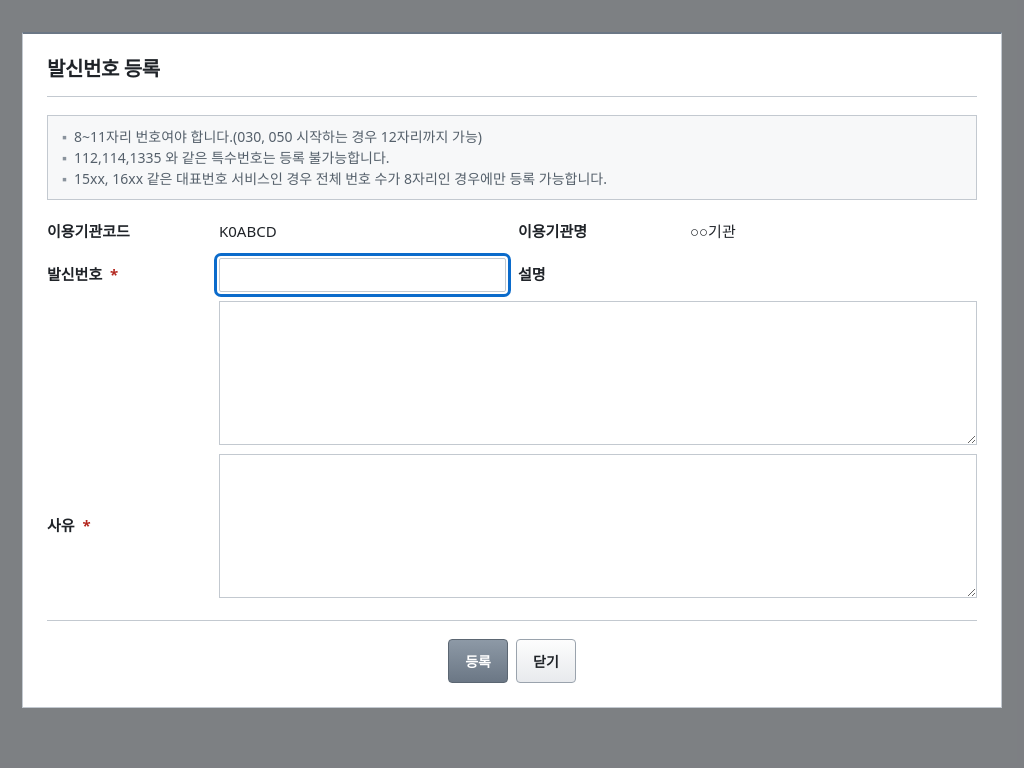
Scenario: SenderNumberRegisterDialog › FR-SNDC-004 — 중복(409)도 같은 방식으로 표시된다
This screenshot has width=1024, height=768.
expect the text "○○기관" is shown: met, box [690, 221, 736, 241]
In the field labelled "발신번호 *": [362, 274] box [219, 258, 506, 292], type "0212345678"
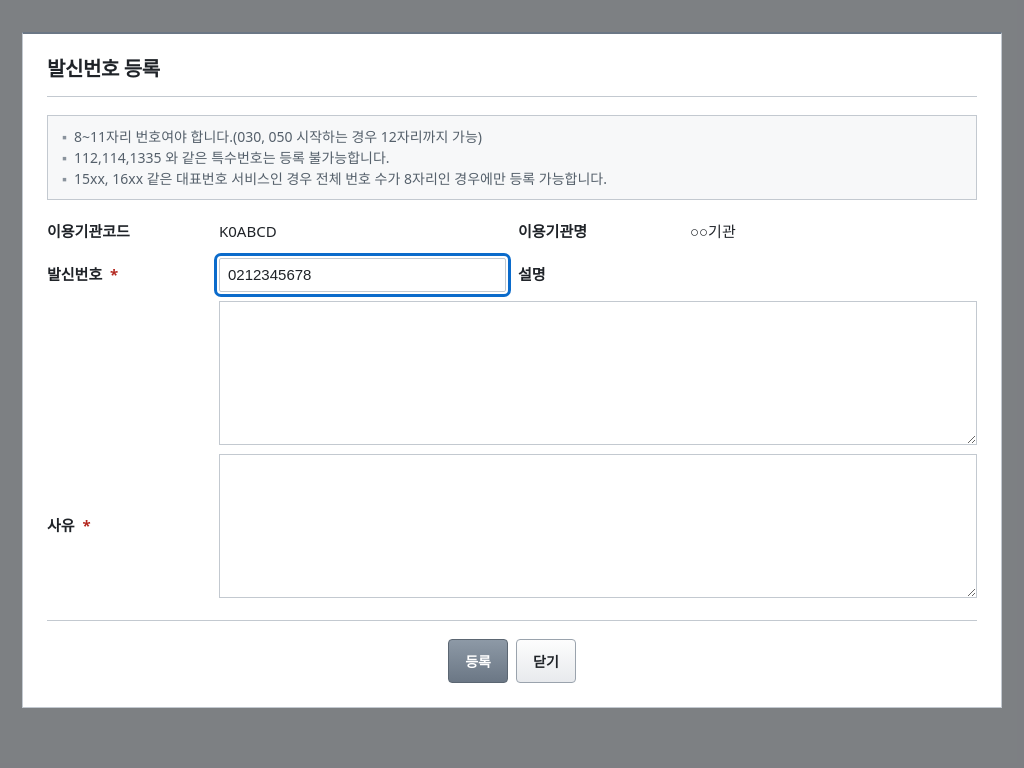
In the text box labelled "사유 *": [598, 526] box [219, 454, 977, 598], type "고객사 요청"
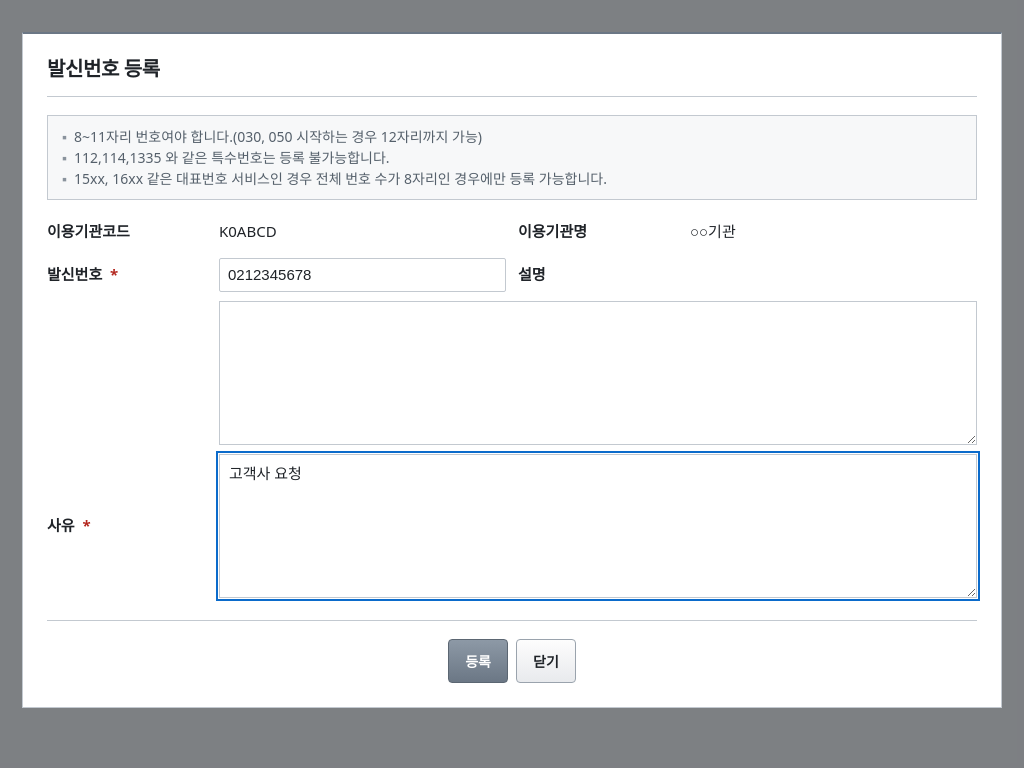
Click the button "등록": [478, 660] box [448, 638, 508, 682]
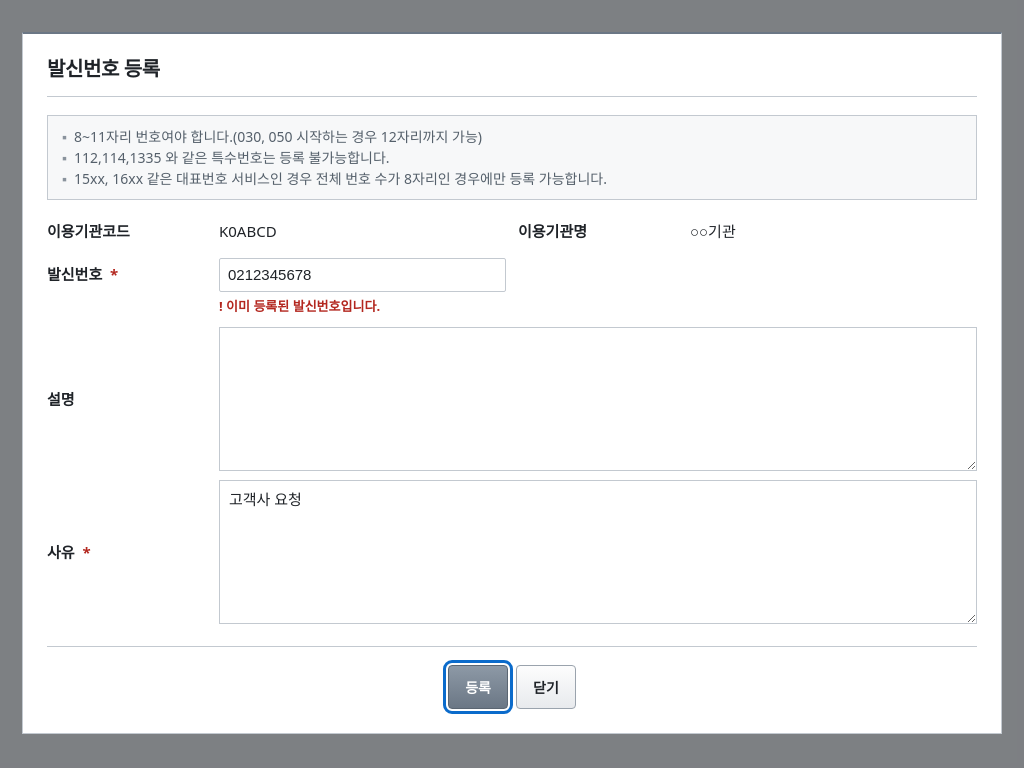
expect the message does not show "K0": met
expect the message shows "이미 등록된 발신번호": met, box [226, 296, 380, 314]
